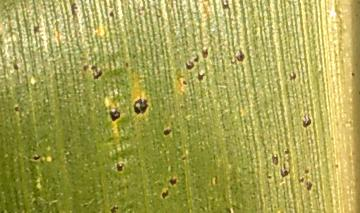tarspot: (132, 98, 148, 115), (301, 113, 312, 130), (108, 109, 121, 122), (269, 151, 279, 167), (278, 165, 291, 177), (235, 48, 246, 62), (200, 46, 210, 60), (287, 69, 297, 82), (91, 70, 104, 80), (70, 2, 79, 16), (183, 59, 194, 70), (167, 176, 178, 187), (32, 23, 42, 35), (304, 180, 314, 192), (115, 162, 126, 172), (31, 153, 42, 163), (191, 52, 201, 63), (219, 1, 231, 10), (196, 70, 205, 82), (264, 169, 273, 181), (107, 10, 117, 20), (12, 103, 22, 113), (160, 190, 171, 199), (109, 204, 120, 213), (181, 77, 190, 87), (296, 175, 306, 184), (11, 62, 20, 71), (162, 128, 172, 136), (82, 64, 90, 74), (89, 64, 97, 72), (302, 167, 310, 175), (283, 146, 290, 155), (349, 70, 356, 79), (124, 61, 131, 69)
